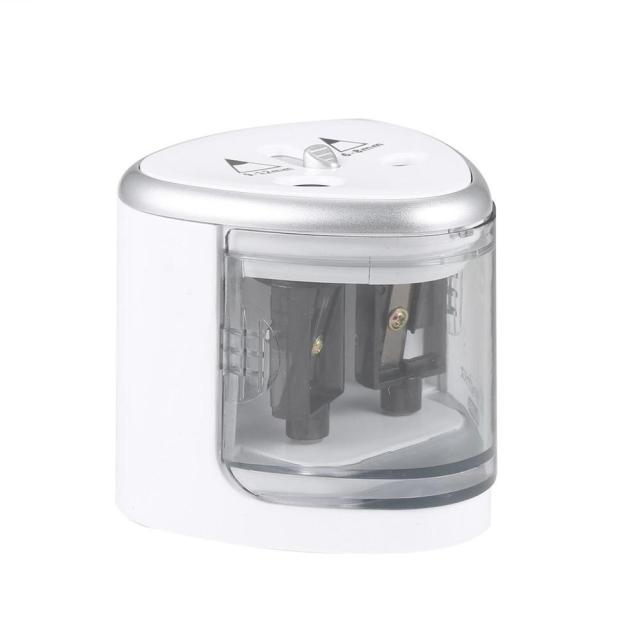pencil_sharpener: (107, 71, 528, 528)
